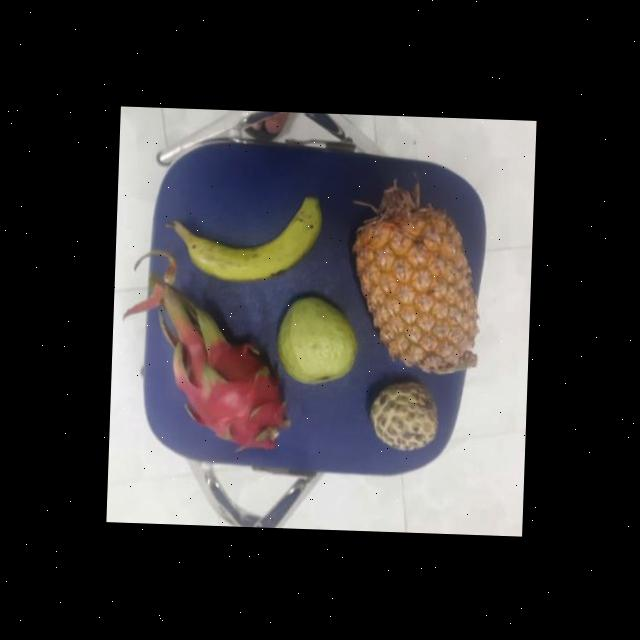Sakya fruit: (366, 380, 438, 449)
banana: (168, 195, 318, 284)
guava: (270, 294, 358, 384)
pineapple: (348, 202, 478, 374)
pitaya: (172, 332, 286, 450)
